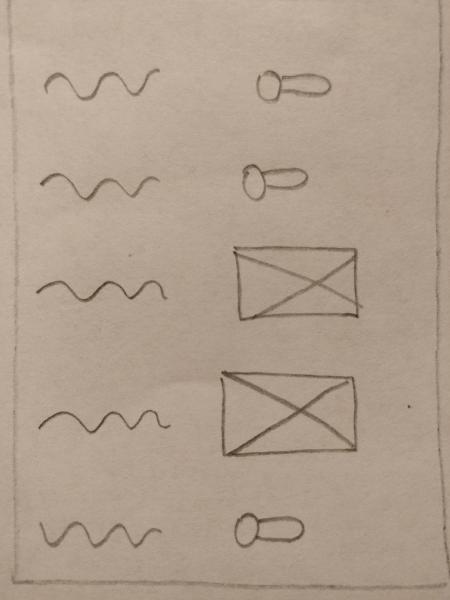image: (214, 364, 361, 460), (225, 235, 367, 329)
switch: (245, 59, 338, 116), (230, 150, 323, 207), (223, 496, 316, 553)
text: (32, 395, 174, 444), (27, 510, 169, 559), (32, 262, 168, 311), (34, 62, 162, 104), (34, 164, 162, 206)
